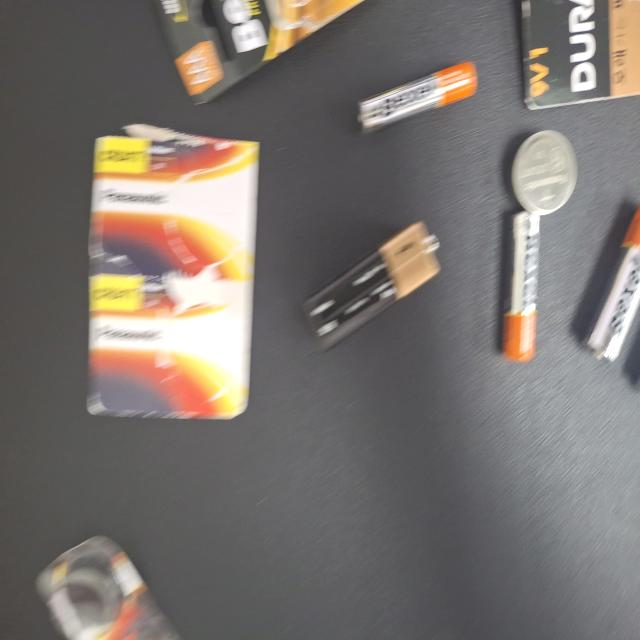9V: (166, 267, 258, 446)
AA: (180, 0, 271, 74), (158, 134, 271, 184)
AAA: (46, 217, 98, 375)
COIN: (98, 84, 162, 172)
